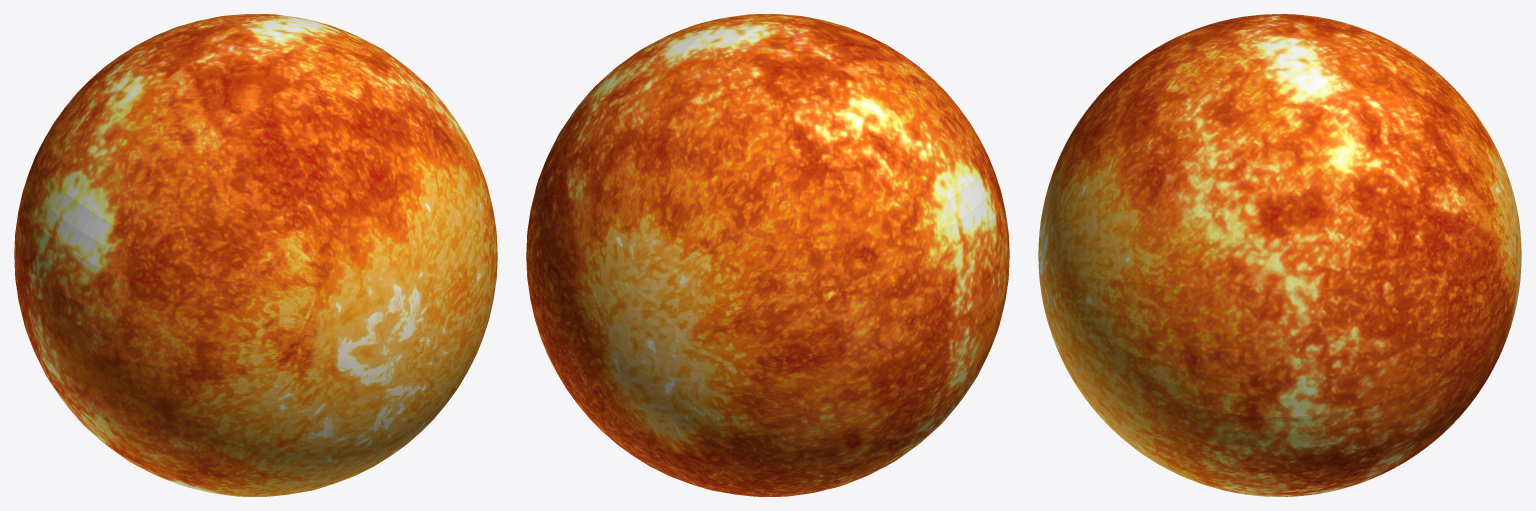
The model's file is Sol.obj.
The picture shows the model from 3 angles, left to right: view 1: azimuth 30°, elevation 25°; view 2: azimuth 150°, elevation 25°; view 3: azimuth 270°, elevation 25°; orthographic projection.
Parts seen in each view (by area): view 1: Plane; view 2: Plane; view 3: Plane.
Part boxes in pixels (x1,y1,x2,y2): Plane: (14,14,497,496); Plane: (526,14,1009,496); Plane: (1038,14,1521,496).
Bounding box in the file's own units: 5.21 × 5.21 × 5.21.
Materials: 1 (1 with a texture image).
